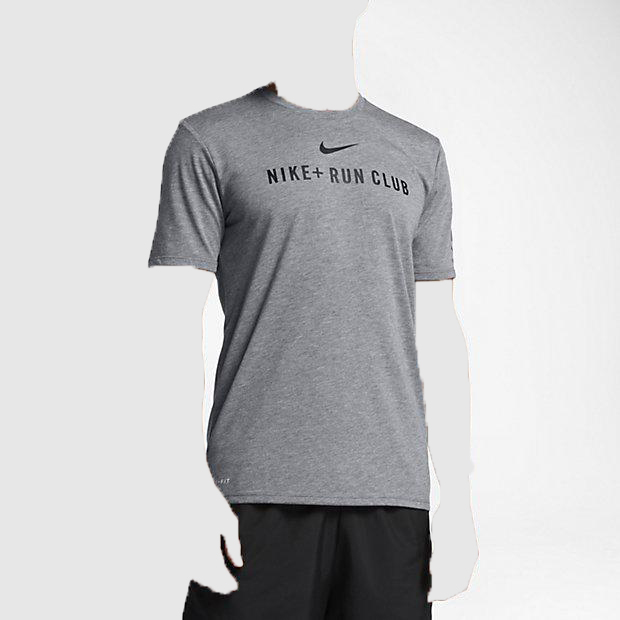teeshirt: (153, 79, 476, 518)
